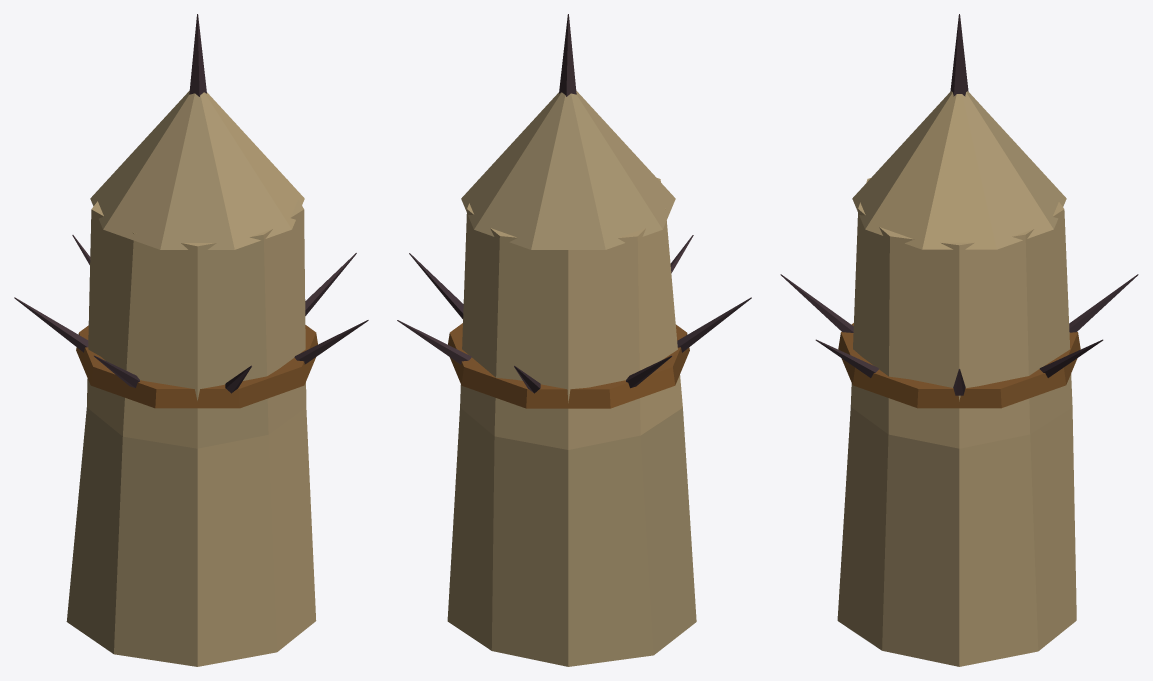
Rendered from walk_hive_tower.glb.
3 views of the same model, side by side, from view 1: azimuth 30°, elevation 25°; view 2: azimuth 150°, elevation 25°; view 3: azimuth 270°, elevation 25° (orthographic).
Visible parts, largest first — view 1: walk_hive_tower, walk_hive_tower_roof; view 2: walk_hive_tower, walk_hive_tower_roof; view 3: walk_hive_tower, walk_hive_tower_roof.
Part boxes in pixels (left/top/right/bottom): walk_hive_tower: left=14, top=179, right=368, bottom=666; walk_hive_tower_roof: left=90, top=14, right=304, bottom=249; walk_hive_tower: left=397, top=178, right=751, bottom=666; walk_hive_tower_roof: left=461, top=14, right=675, bottom=249; walk_hive_tower: left=780, top=178, right=1138, bottom=666; walk_hive_tower_roof: left=852, top=14, right=1066, bottom=249.
Size of what is drawn, in the model's own units: 6.1 by 11.5 by 6.25.
1 material, 1 textured.
